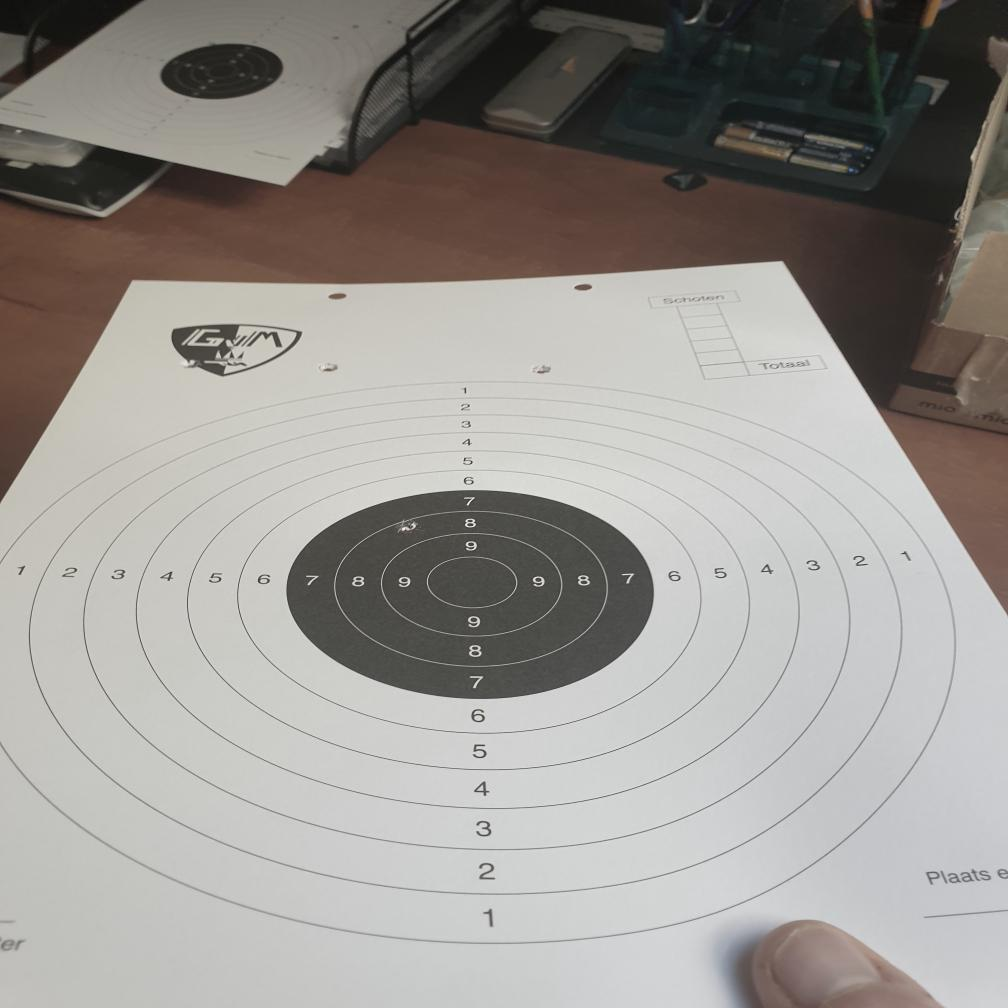0: (528, 361, 555, 379), (180, 356, 203, 372), (318, 362, 339, 373)
8: (396, 518, 424, 535)
Target: (0, 378, 961, 948)
black_contour: (291, 488, 653, 700)
